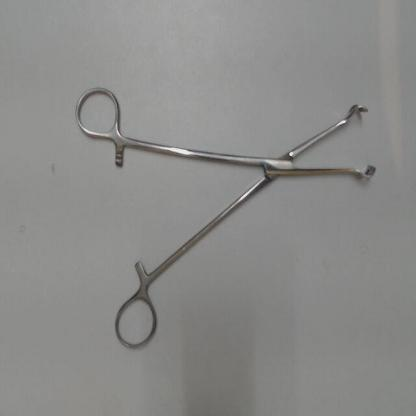8 Babcock Tissue Forceps: (67, 79, 383, 360)
